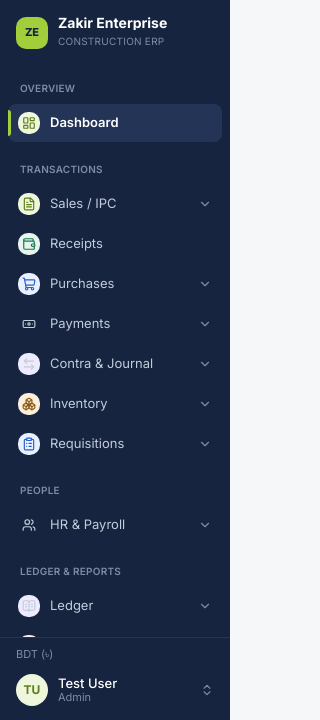
Test: Sidebar — accordion (spec §3.1/§9) › opening one module collapses the previously open one (accordion)
The image size is (320, 720).
What coordinates should you click on to do the following:
click the button with test id "nav-module-ledger"
I would click on:
 (115, 606)
Its box is top-left (8, 587), bottom-right (222, 625).
(page scrolled)
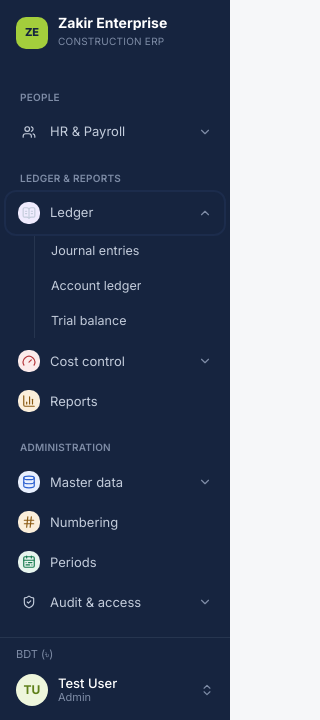
Expected: the button with test id "nav-module-ledger" is expanded, top-left (8, 194), bottom-right (222, 232)
What coordinates should you click on to do the following:
click the button with test id "nav-module-master-data"
I would click on:
 (115, 482)
Its box is top-left (8, 463), bottom-right (222, 501).
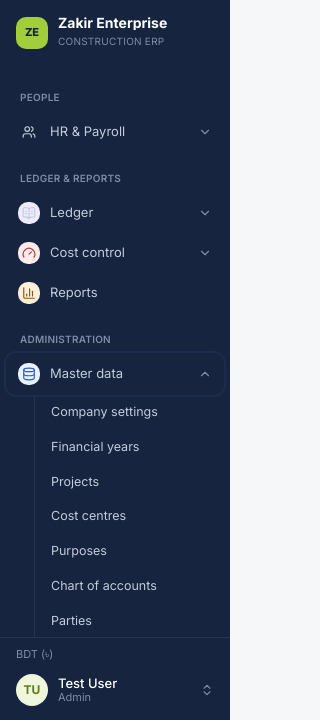
Expected: the button with test id "nav-module-master-data" is expanded, top-left (8, 355), bottom-right (222, 393)
